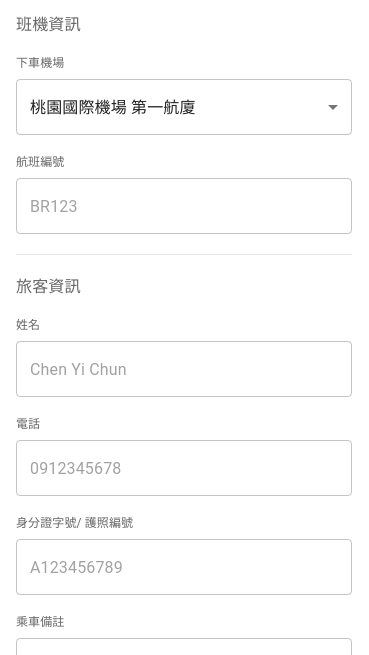
Form.Page component › Invalid Input › shows error message when flight number is not valid
Type "航班編號" into the field labelled "航班編號" at (184, 206), box [16,178,352,234]
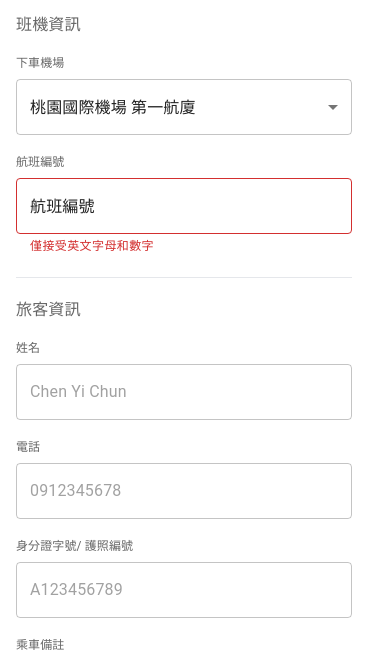
Result: the text "僅接受英文字母和數字" is shown at [30,239,154,253]
